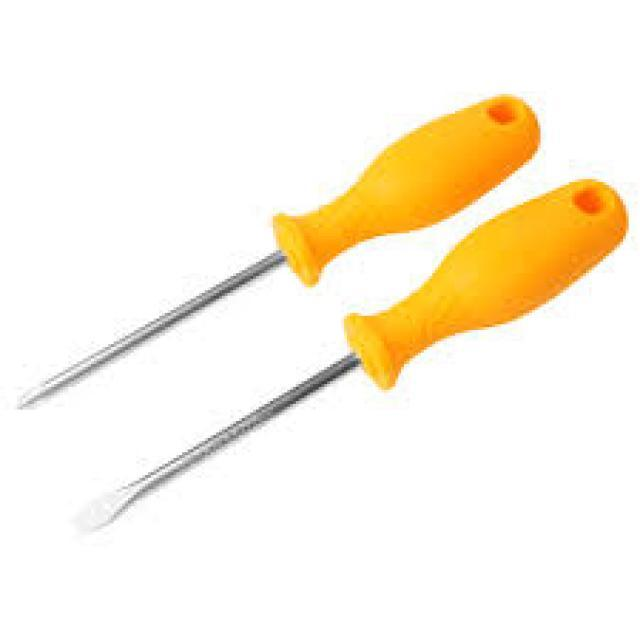screwdriver: (62, 178, 634, 536), (14, 90, 540, 417)
